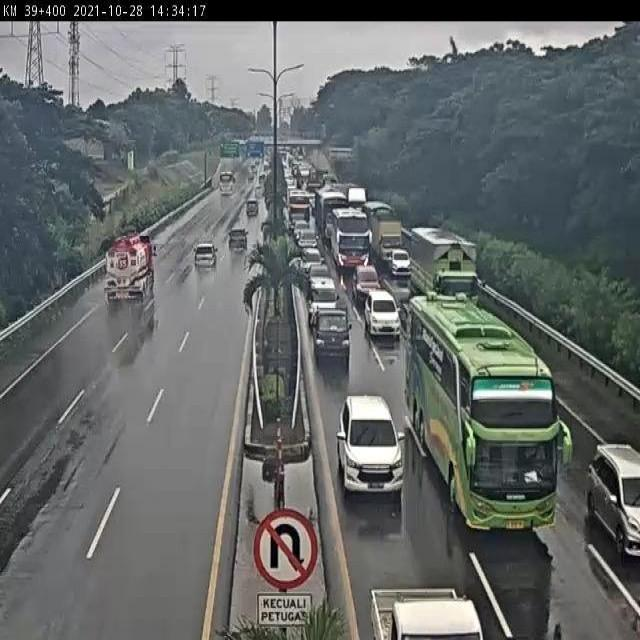big bus: (409, 300, 578, 536), (330, 205, 370, 263), (314, 190, 347, 242), (285, 191, 313, 232), (215, 168, 238, 200)
big truck: (404, 222, 486, 314), (364, 202, 404, 266)
car: (360, 586, 485, 640), (340, 392, 404, 491), (587, 445, 640, 560), (104, 232, 161, 307), (310, 307, 353, 360), (364, 293, 404, 343), (302, 260, 335, 296), (192, 240, 222, 273), (227, 224, 250, 256), (341, 250, 367, 278), (388, 245, 408, 276), (297, 238, 318, 266), (296, 224, 318, 248), (244, 196, 263, 220), (302, 250, 323, 270), (292, 220, 309, 240)
